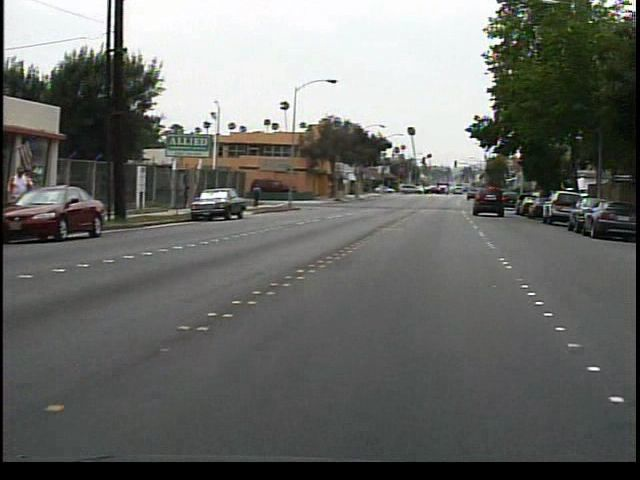person: (15, 161, 45, 236), (255, 180, 271, 212)
